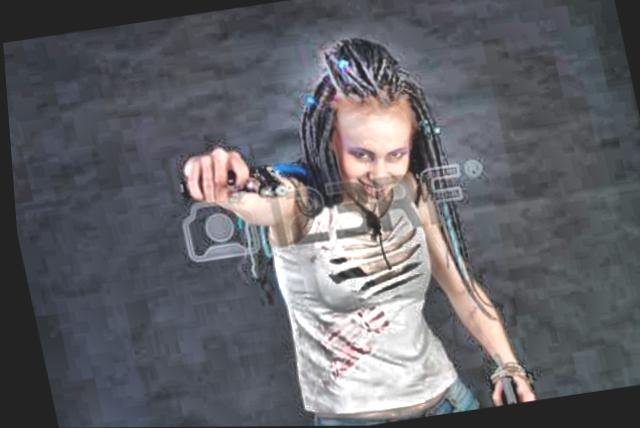pistol: (164, 144, 298, 217), (469, 351, 521, 407)
